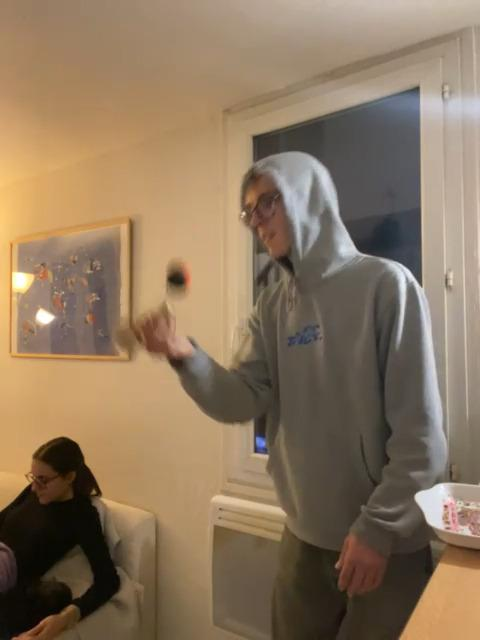kendama_ball: (166, 263, 190, 292)
